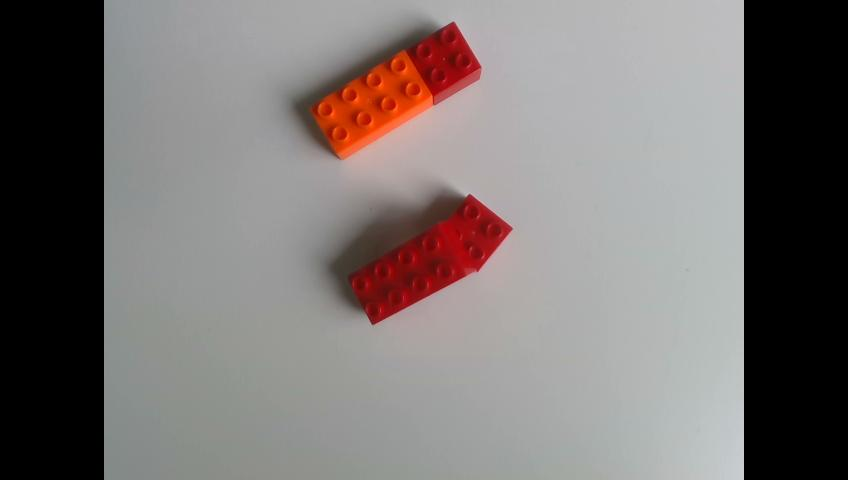2x2_red: (405, 21, 482, 103), (448, 193, 514, 273)
4x2_orange: (311, 50, 435, 163)
4x2_red: (348, 221, 477, 327)
